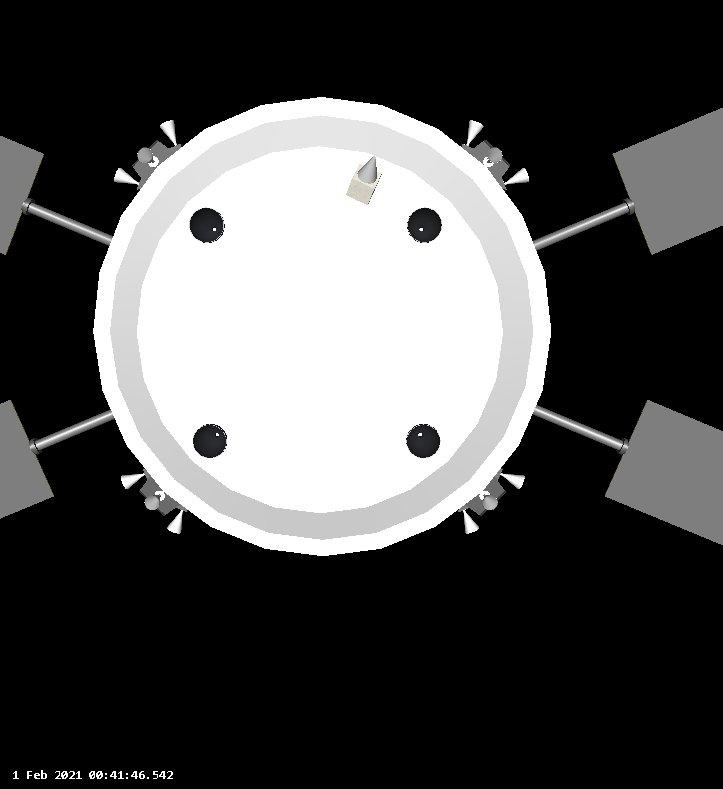body: (92, 95, 555, 558)
solar: (599, 396, 723, 547), (613, 105, 723, 255), (0, 398, 57, 522), (0, 132, 47, 255)
thruster: (190, 207, 225, 243), (408, 208, 443, 244), (192, 424, 228, 459), (406, 425, 441, 458), (464, 119, 485, 148), (462, 507, 481, 536), (119, 472, 147, 491), (159, 119, 178, 146), (113, 166, 140, 185), (501, 471, 528, 490), (504, 168, 531, 186), (167, 508, 183, 534), (144, 493, 163, 512), (137, 146, 157, 164), (481, 492, 499, 511), (485, 146, 503, 164)
